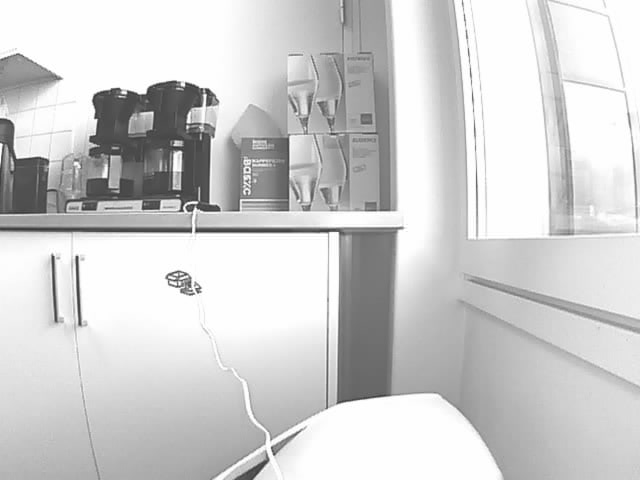not empty coffee: (140, 139, 197, 196), (85, 144, 137, 201)
